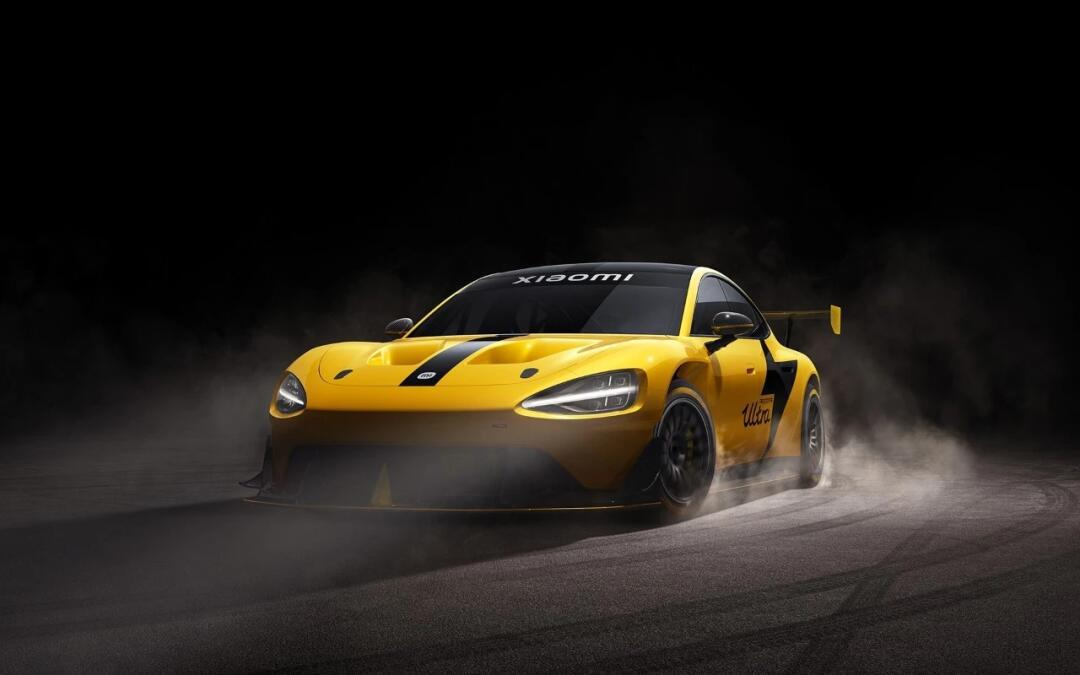su7: (248, 262, 839, 524)
